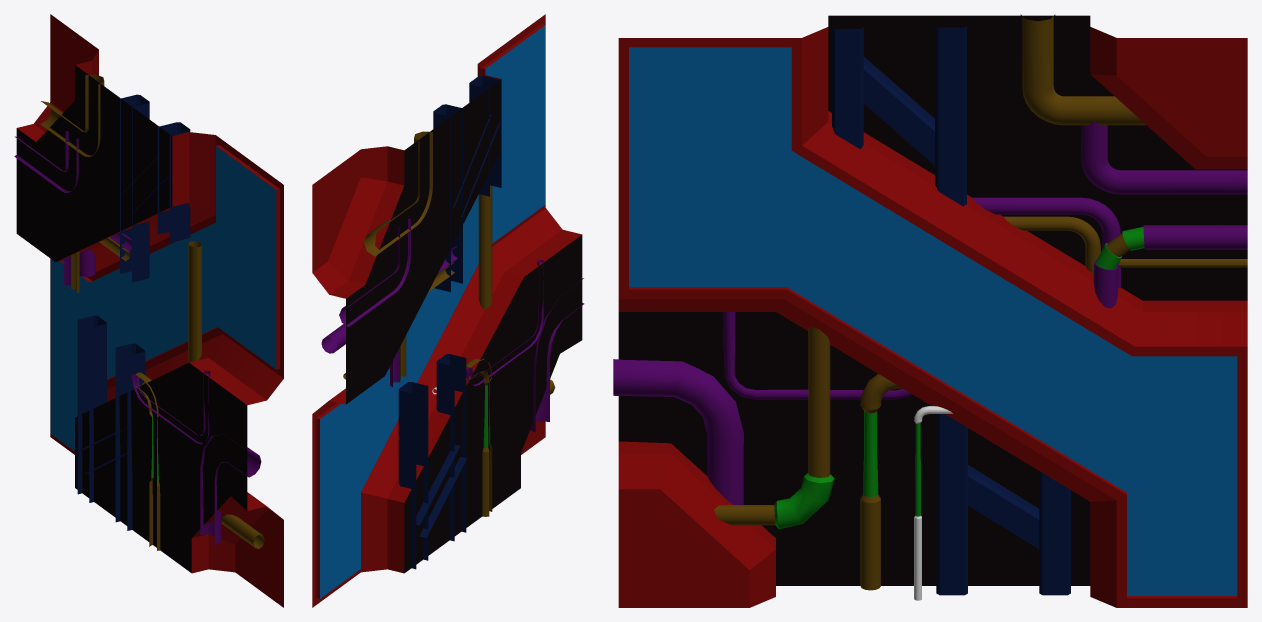
Rendered from OBJ_3_Mur.fbx.
The picture shows the model from 3 angles, left to right: view 1: azimuth 30°, elevation 25°; view 2: azimuth 150°, elevation 25°; view 3: azimuth 270°, elevation 25°; orthographic projection. The views are drawn at different scales.
Parts seen in each view (by area): view 1: OBJ_3_Mur; view 2: OBJ_3_Mur; view 3: OBJ_3_Mur.
Part boxes in pixels (x1,y1,x2,y2): OBJ_3_Mur: (14,14,283,607); OBJ_3_Mur: (312,14,584,607); OBJ_3_Mur: (613,14,1247,607).
Size of the model in its own units: 122 by 1200 by 1210.
